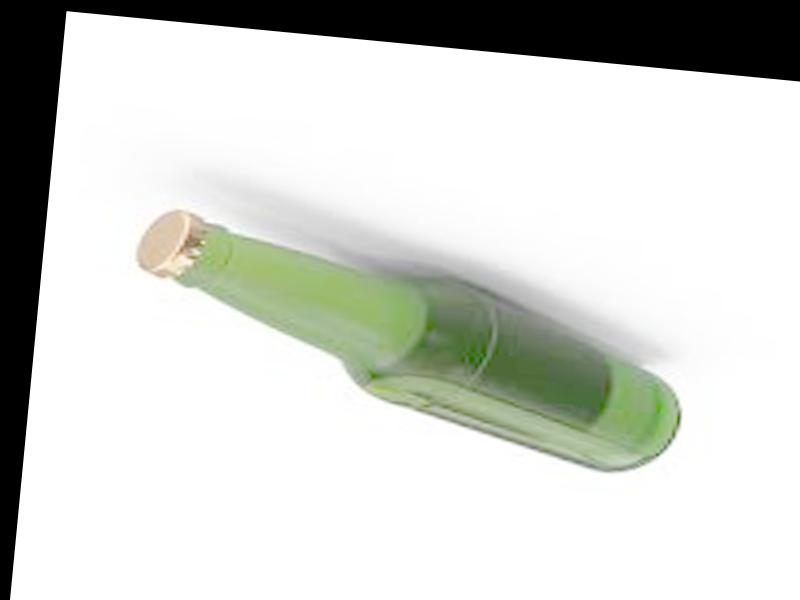Beer: (116, 205, 696, 478)
